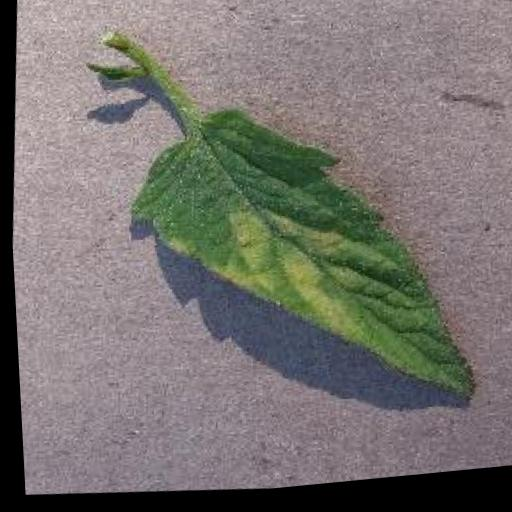Leaf Mold: (116, 90, 495, 433)
